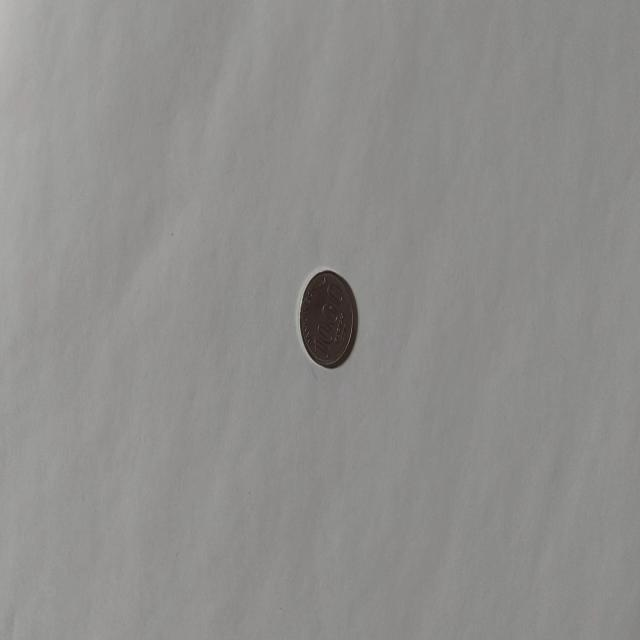seribu rupiah koin: (296, 267, 356, 369)
